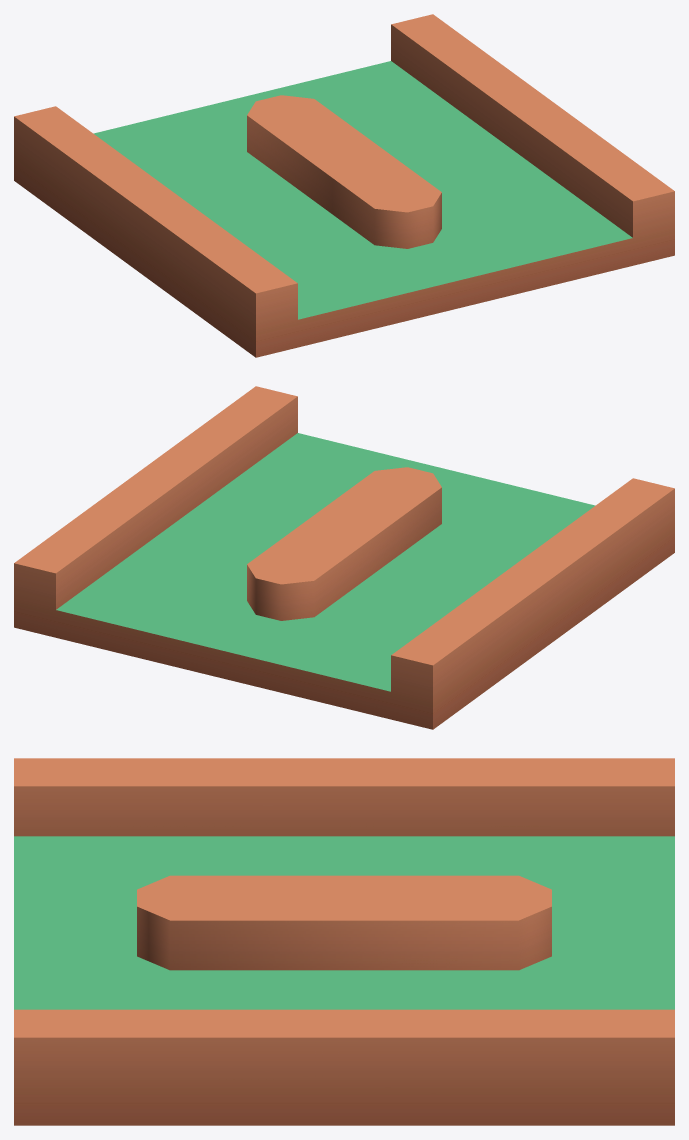
The model's file is obstacle-block.glb.
3 views of the same model, one above another, from view 1: azimuth 30°, elevation 25°; view 2: azimuth 150°, elevation 25°; view 3: azimuth 270°, elevation 25° (orthographic). The views are drawn at different scales.
Visible parts, largest first — view 1: obstacle-block; view 2: obstacle-block; view 3: obstacle-block.
Boxes of the visible parts, bbox=[...] form: obstacle-block: bbox=[14, 14, 674, 357]; obstacle-block: bbox=[14, 386, 674, 729]; obstacle-block: bbox=[14, 758, 674, 1125].
Bounding box in the file's own units: 0.9999 × 0.1467 × 0.9999.
Materials: 1 (1 with a texture image).
